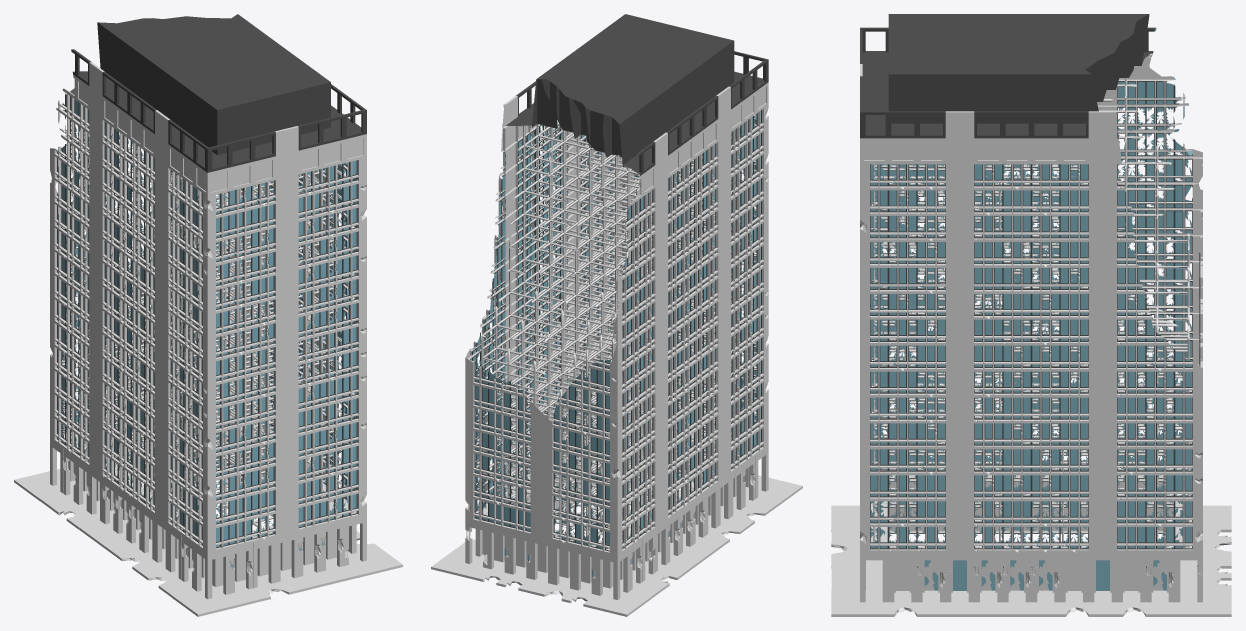
Rendered from Building1.fbx.
The picture shows the model from 3 angles, left to right: view 1: azimuth 30°, elevation 25°; view 2: azimuth 150°, elevation 25°; view 3: azimuth 270°, elevation 25°; orthographic projection. The views are drawn at different scales.
Visible parts, largest first — view 1: Building #1 outer, Building #1 inner; view 2: Building #1 outer, Building #1 inner; view 3: Building #1 outer, Building #1 inner.
Boxes of the visible parts, bbox=[...] form: Building #1 outer: bbox=[14, 14, 402, 616]; Building #1 inner: bbox=[66, 126, 348, 537]; Building #1 outer: bbox=[431, 14, 802, 616]; Building #1 inner: bbox=[481, 120, 752, 548]; Building #1 outer: bbox=[831, 14, 1231, 616]; Building #1 inner: bbox=[873, 78, 1189, 547].
Bounding box in the file's own units: 90 × 200 × 140.
